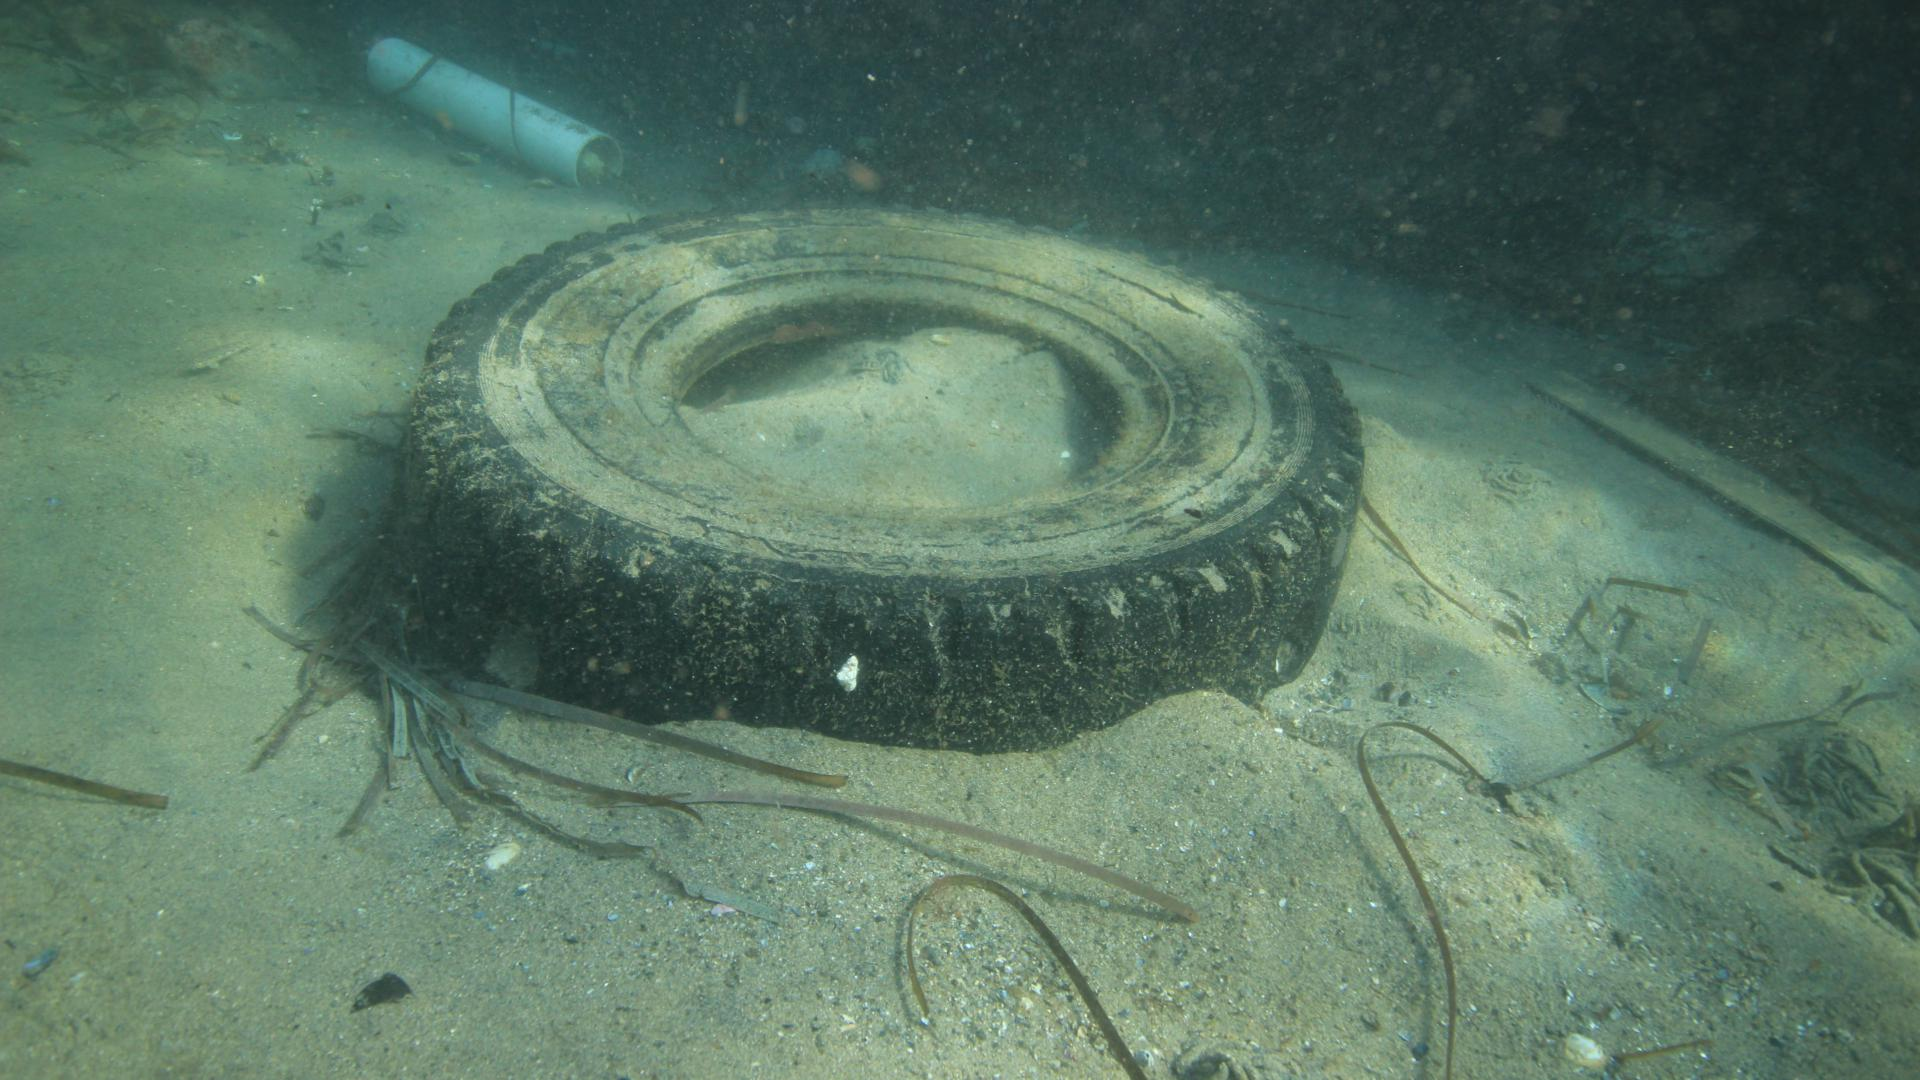tire: (401, 200, 1364, 752)
